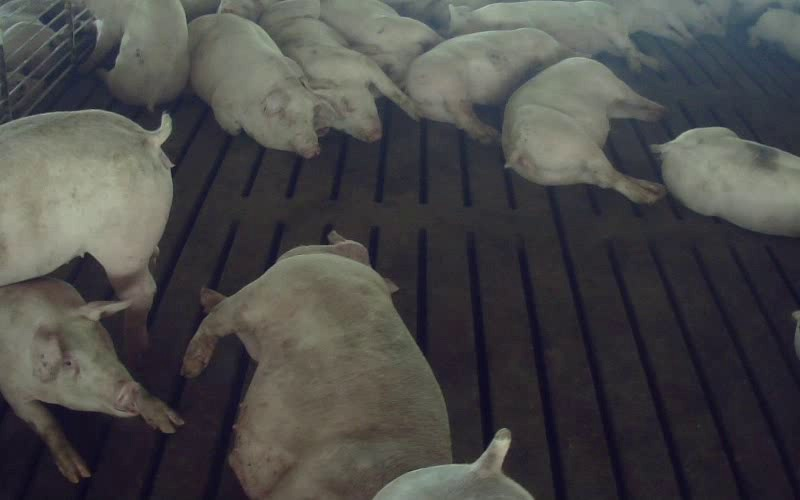pig: (182, 232, 451, 499), (502, 58, 664, 203), (259, 0, 415, 141), (189, 13, 332, 157), (406, 28, 569, 142), (652, 127, 799, 236), (451, 0, 655, 69), (82, 0, 189, 110), (321, 0, 442, 86)
